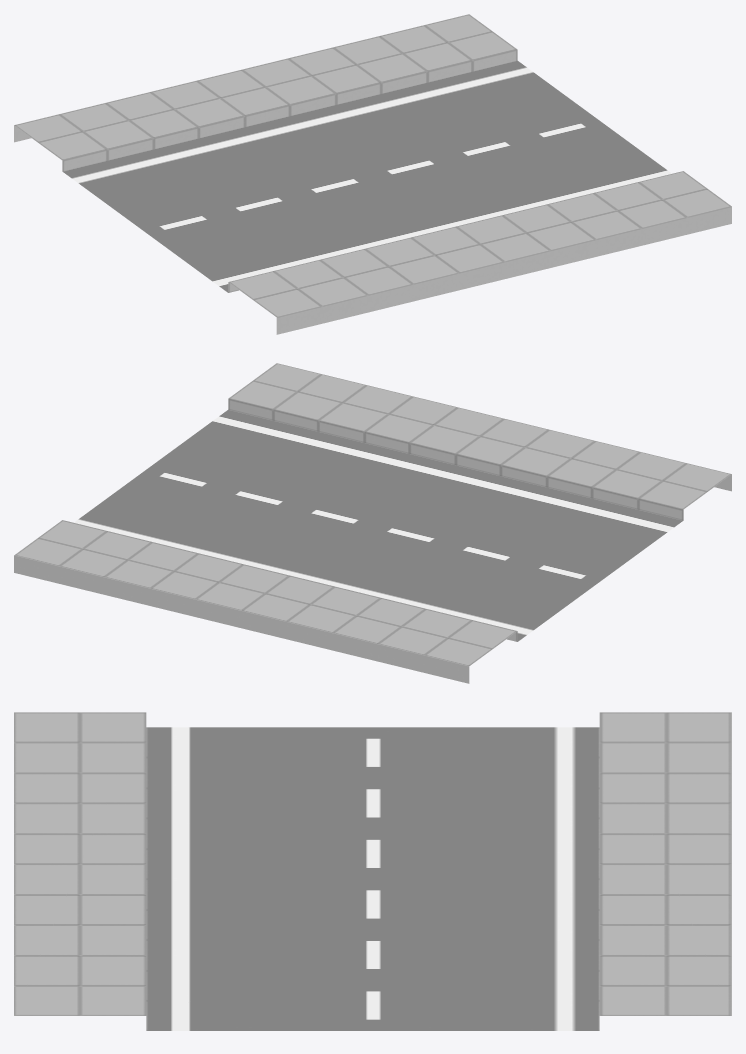
The model's file is Road4.glb.
3 renders of one model, top to bottom at view 1: azimuth 30°, elevation 25°; view 2: azimuth 150°, elevation 25°; view 3: azimuth 270°, elevation 25°, orthographic. The views are drawn at different scales.
Parts seen in each view (by area): view 1: Object004; view 2: Object004; view 3: Object004.
Boxes of the visible parts, x1,y1,x2,y2 form: Object004: [14, 14, 731, 334]; Object004: [14, 363, 731, 683]; Object004: [14, 712, 731, 1030].
Size of the model in its own units: 6 by 0.2183 by 6.
Materials: 1 (1 with a texture image).
